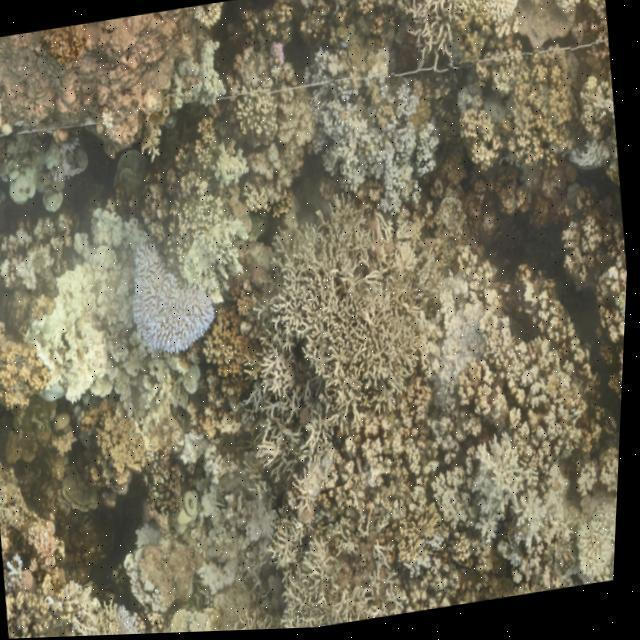Bleached Coral: (31, 231, 156, 418), (304, 70, 448, 200), (122, 226, 238, 376), (406, 266, 514, 416), (460, 428, 550, 542), (152, 37, 236, 125), (581, 500, 622, 584), (204, 140, 256, 202), (471, 0, 528, 47), (118, 599, 177, 636)
